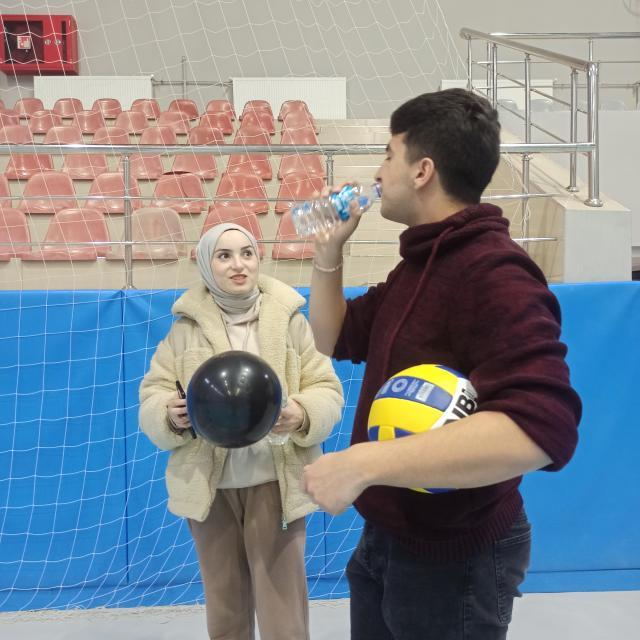balloon: (190, 351, 285, 447)
